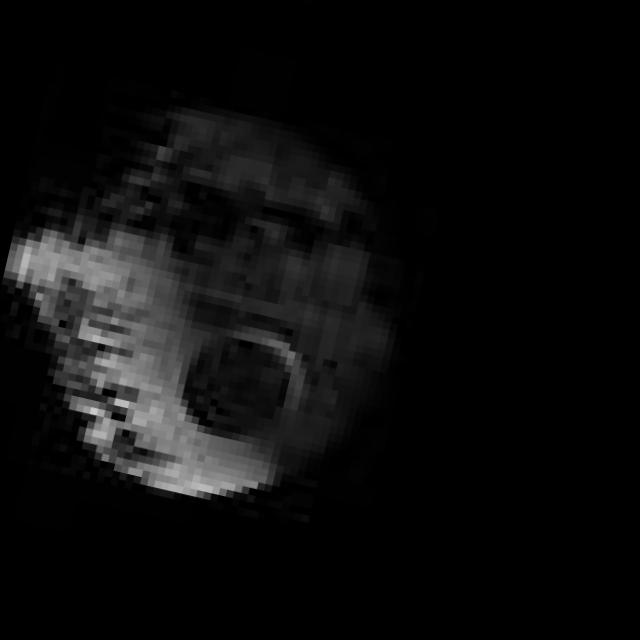Death Star: (0, 62, 450, 548)
